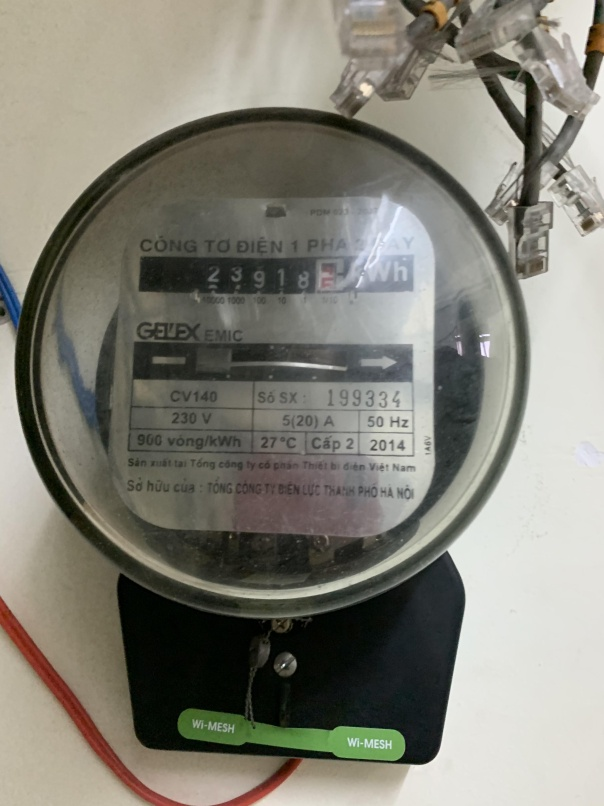counter: (141, 257, 414, 294)
electricity_meter: (15, 112, 533, 618)
